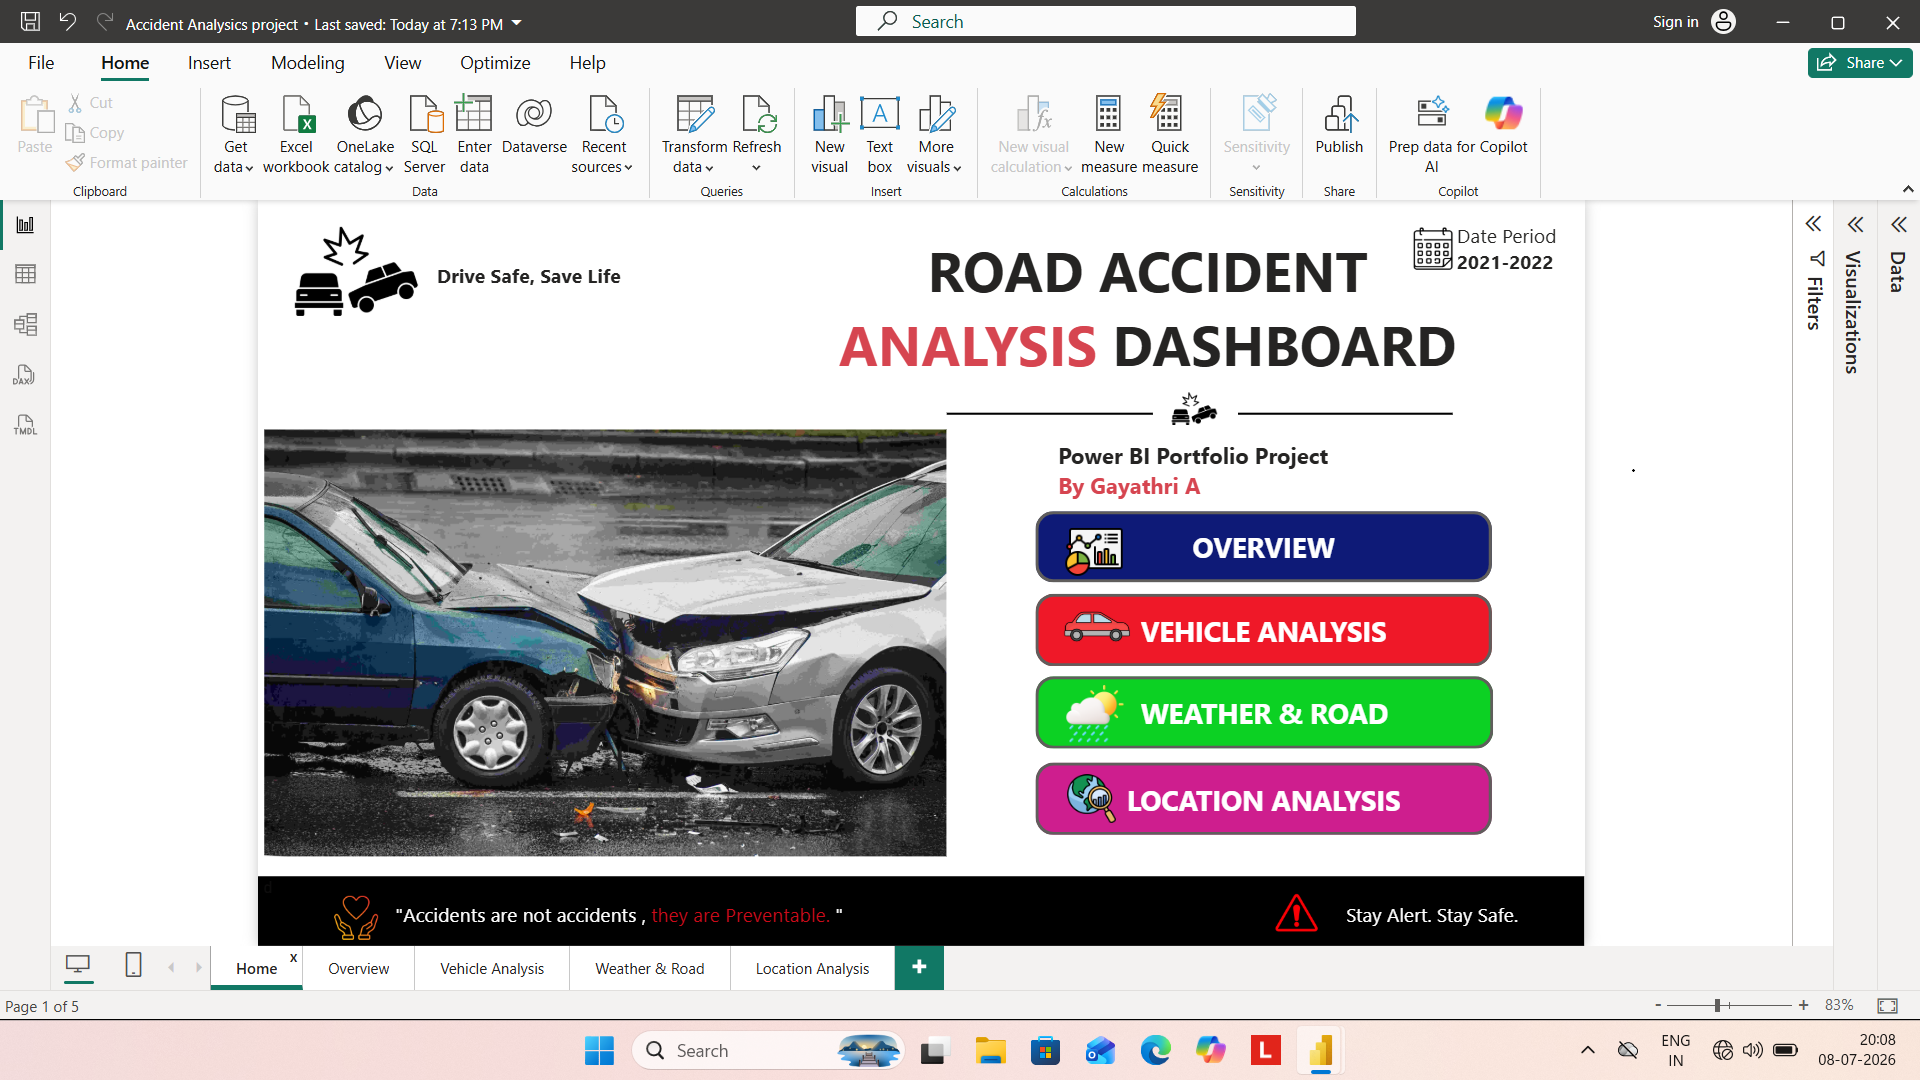

Layout of this report page (visuals, bound fields, positions):
{"tool":"powerbi","page":{"name":"Home","canvas":[1280,720],"ordinal":0},"visuals":[{"type":"textbox","box":[525.6,26.1,665.5,212.7],"z":0},{"type":"textbox","box":[767.1,226.4,513.2,72.7],"z":1000},{"type":"image","box":[6,206.3,658.7,442.8],"z":2000},{"type":"actionButton","box":[750.6,380.1,440.5,70],"z":3000},{"type":"actionButton","box":[750.6,459.7,441.9,70],"z":4000},{"type":"actionButton","box":[750.6,543.4,440.5,70],"z":5000},{"type":"image","box":[764.3,359.5,90.6,70],"z":6000},{"type":"image","box":[776.7,467.9,61.7,54.9],"z":7000},{"type":"image","box":[764.3,553,79.6,50.8],"z":8000},{"type":"image","box":[0,0,189.3,137.3],"z":9000},{"type":"textbox","box":[168,56,264,50.7],"z":10000},{"type":"actionButton","box":[750.6,300.5,440.5,68.6],"z":11000},{"type":"image","box":[758.8,310.1,96.1,59],"z":12000},{"type":"image","box":[863.1,175.6,82.3,50.8],"z":13000},{"type":"shape","box":[945.5,56.3,207.2,299.1],"z":14000},{"type":"shape","box":[664.2,56.3,199,299.1],"z":15000},{"type":"textbox","box":[1152.7,16.5,127.6,79.6],"z":16000},{"type":"image","box":[1077.2,26.1,113.9,41.2],"z":17000},{"type":"textbox","title":"d","box":[0,653.2,1280.3,67.2],"z":18000},{"type":"image","box":[65.9,671,56.3,43.9],"z":19000},{"type":"image","box":[982.5,665.5,41.2,43.9],"z":20000}]}

Visuals, with their boxes on the page's 1280x720 design canvas (x1, y1, x2, y2). These are canvas units, not pixel positions in the 1920x1080 screenshot, which may show the page scaled, cropped or inside an application window:
textbox: box=[526, 26, 1191, 239]
textbox: box=[767, 226, 1280, 299]
image: box=[6, 206, 665, 649]
actionButton: box=[751, 380, 1191, 450]
actionButton: box=[751, 460, 1192, 530]
actionButton: box=[751, 543, 1191, 613]
image: box=[764, 360, 855, 430]
image: box=[777, 468, 838, 523]
image: box=[764, 553, 844, 604]
image: box=[0, 0, 189, 137]
textbox: box=[168, 56, 432, 107]
actionButton: box=[751, 300, 1191, 369]
image: box=[759, 310, 855, 369]
image: box=[863, 176, 945, 226]
shape: box=[946, 56, 1153, 355]
shape: box=[664, 56, 863, 355]
textbox: box=[1153, 16, 1280, 96]
image: box=[1077, 26, 1191, 67]
"d" textbox: box=[0, 653, 1280, 720]
image: box=[66, 671, 122, 715]
image: box=[982, 666, 1024, 709]
